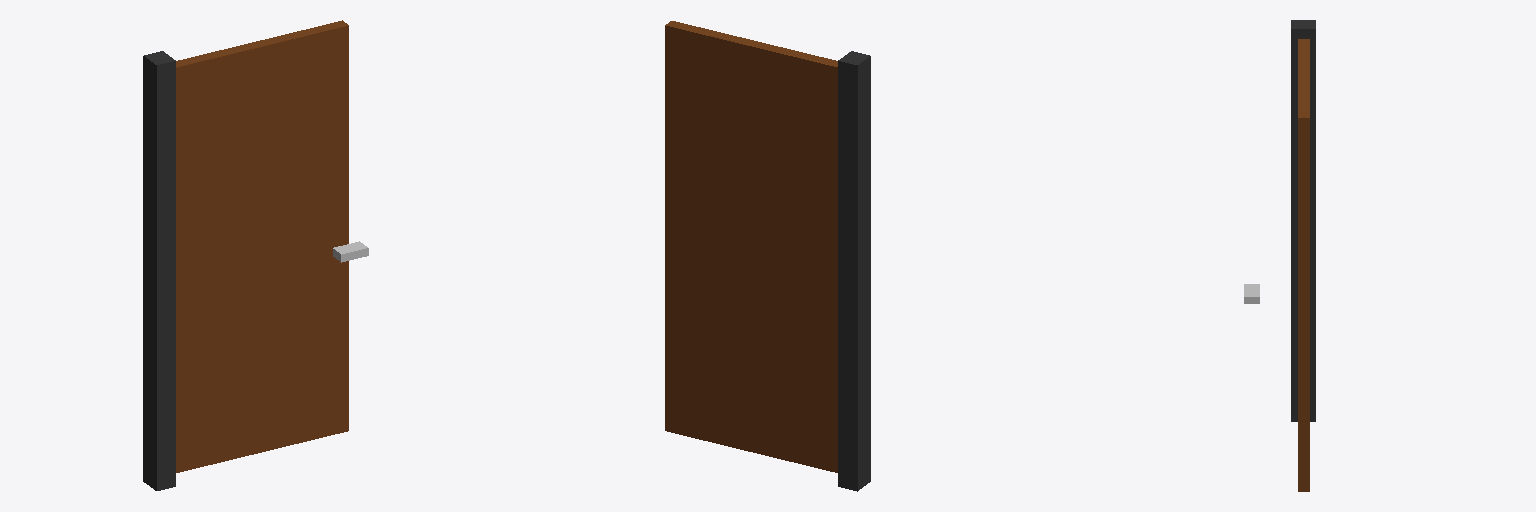
The robot description file, URDF, robot "door_pull":
<?xml version="1.0"?>
<robot name="door_pull">
  <link name="frame">
    <inertial><origin xyz="0 0 1"/><mass value="20"/><inertia ixx="7" iyy="7" izz="0.1" ixy="0" ixz="0" iyz="0"/></inertial>
    <visual><origin xyz="-0.06 0 1"/><geometry><box size="0.1 0.12 2.1"/></geometry><material name="frame_color"><color rgba="0.25 0.25 0.25 1"/></material></visual>
    <collision><origin xyz="-0.06 0 1"/><geometry><box size="0.1 0.12 2.1"/></geometry></collision>
  </link>
  <link name="panel">
    <inertial><origin xyz="0.45 0 1"/><mass value="8"/><inertia ixx="2.67" iyy="3.21" izz="0.54" ixy="0" ixz="0" iyz="0"/></inertial>
    <visual><origin xyz="0.45 0 1"/><geometry><box size="0.9 0.06 2"/></geometry><material name="door_color"><color rgba="0.5 0.3 0.15 1"/></material></visual>
    <collision><origin xyz="0.45 0 1"/><geometry><box size="0.9 0.06 2"/></geometry></collision>
  </link>
  <joint name="hinge" type="revolute">
    <parent link="frame"/><child link="panel"/><origin xyz="0 0 0"/><axis xyz="0 0 -1"/>
    <limit lower="0" upper="1.7" effort="100" velocity="5"/><dynamics damping="0.5" friction="0.05"/>
  </joint>
  <link name="handle">
    <inertial><mass value="0.15"/><inertia ixx="0.0003" iyy="0.0003" izz="0.0003" ixy="0" ixz="0" iyz="0"/></inertial>
    <visual><geometry><box size="0.14 0.08 0.04"/></geometry><material name="handle_color"><color rgba="0.8 0.8 0.8 1"/></material></visual>
    <collision><geometry><box size="0.14 0.08 0.04"/></geometry></collision>
  </link>
  <joint name="handle_mount" type="fixed"><parent link="panel"/><child link="handle"/><origin xyz="0.78 -0.25 1"/></joint>
</robot>

--- Facts derived from the render (not from the file) ---
Views: 3 orthographic renders of the robot side by side, from view 1: azimuth 30°, elevation 25°; view 2: azimuth 150°, elevation 25°; view 3: azimuth 270°, elevation 25°.
Robot: door_pull — 3 links, 2 joints (1 revolute, 1 fixed); root link frame; default pose: all joints at 0.
Visible links, largest first — view 1: panel, frame, handle; view 2: panel, frame; view 3: frame, panel.
Boxes of the visible links, left/top/right/bottom form: panel: left=176, top=20, right=348, bottom=472; frame: left=143, top=51, right=175, bottom=490; handle: left=333, top=241, right=368, bottom=262; panel: left=665, top=21, right=837, bottom=472; frame: left=838, top=51, right=870, bottom=491; frame: left=1291, top=20, right=1315, bottom=421; panel: left=1298, top=39, right=1309, bottom=491.
Bounding box of the posed robot: 1.01 × 0.35 × 2.1 m (x, y, z).
Geometry: primitives only (box / cylinder / sphere), no mesh files.
